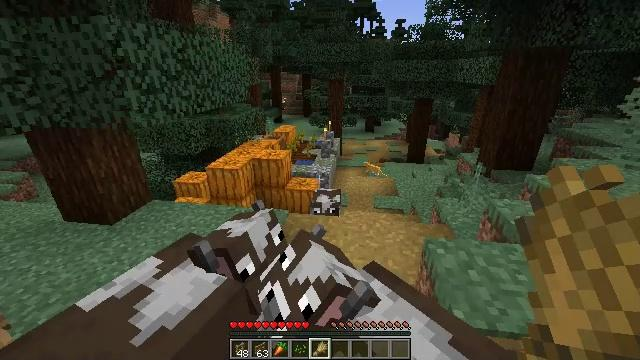cow: (0, 209, 287, 359), (269, 229, 524, 360), (311, 189, 341, 218)
